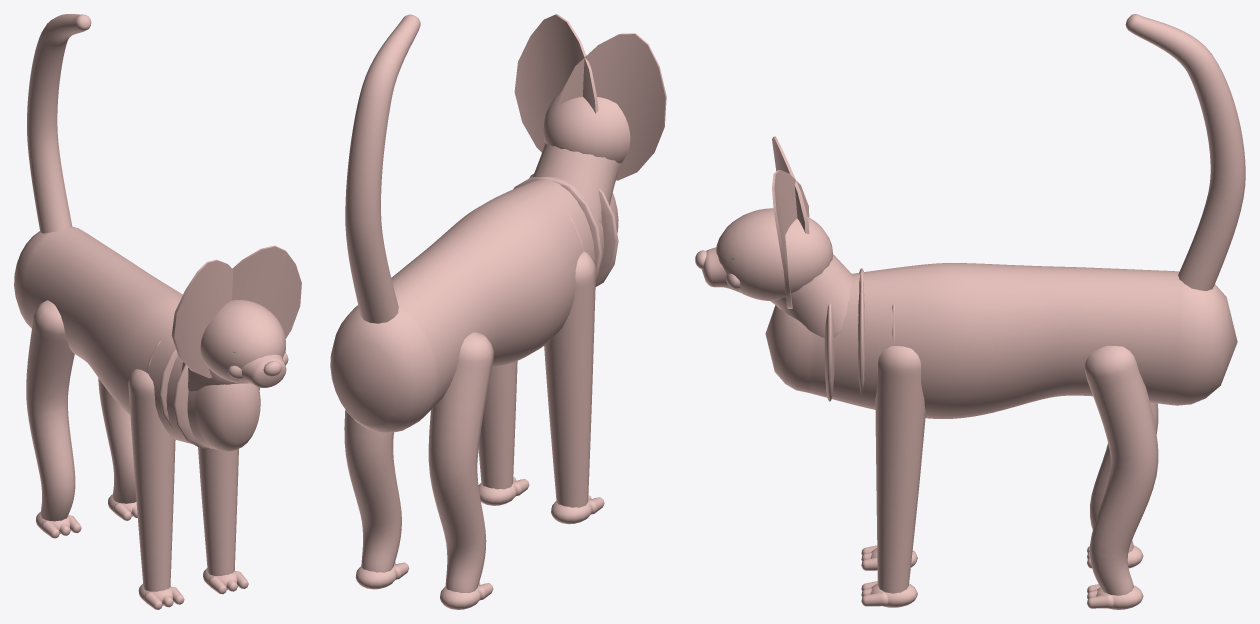
File: pets-and-companions-hd-sphynx-f3caeec3__28149.glb
The picture shows the model from 3 angles, left to right: view 1: azimuth 30°, elevation 25°; view 2: azimuth 150°, elevation 25°; view 3: azimuth 270°, elevation 25°; orthographic projection. The views are drawn at different scales.
Visible parts, largest first — view 1: sphynx; view 2: sphynx; view 3: sphynx.
Boxes of the visible parts, x1,y1,x2,y2 form: sphynx: (14, 14, 301, 609); sphynx: (330, 14, 666, 609); sphynx: (695, 14, 1245, 609).
Bounding box in the file's own units: 0.131 × 0.4927 × 0.4296.
